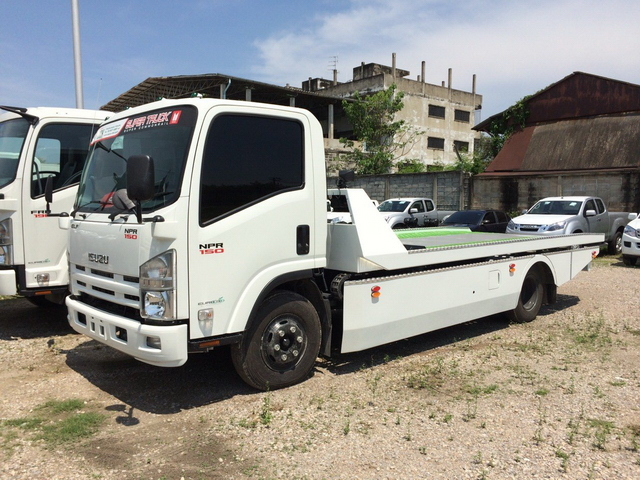truck: (62, 94, 602, 392)
